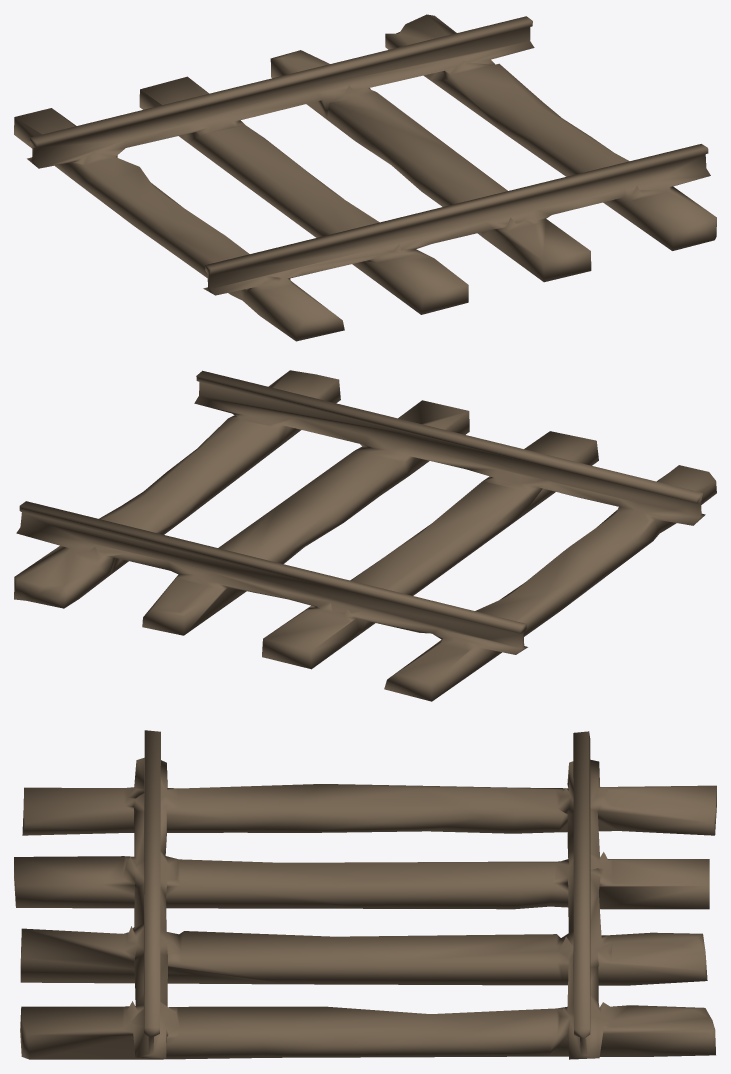
Rendered from Fence_.fbx.
3 views of the same model, one above another, from view 1: azimuth 30°, elevation 25°; view 2: azimuth 150°, elevation 25°; view 3: azimuth 270°, elevation 25° (orthographic). The views are drawn at different scales.
Visible parts, largest first — view 1: Aset_Fence; view 2: Aset_Fence; view 3: Aset_Fence.
Part boxes in pixels (box(x1,y1,x2,y2)): Aset_Fence: box(14, 14, 716, 341); Aset_Fence: box(14, 370, 716, 701); Aset_Fence: box(14, 730, 716, 1059).
Bounding box in the file's own units: 2.5 × 0.2176 × 2.5.
